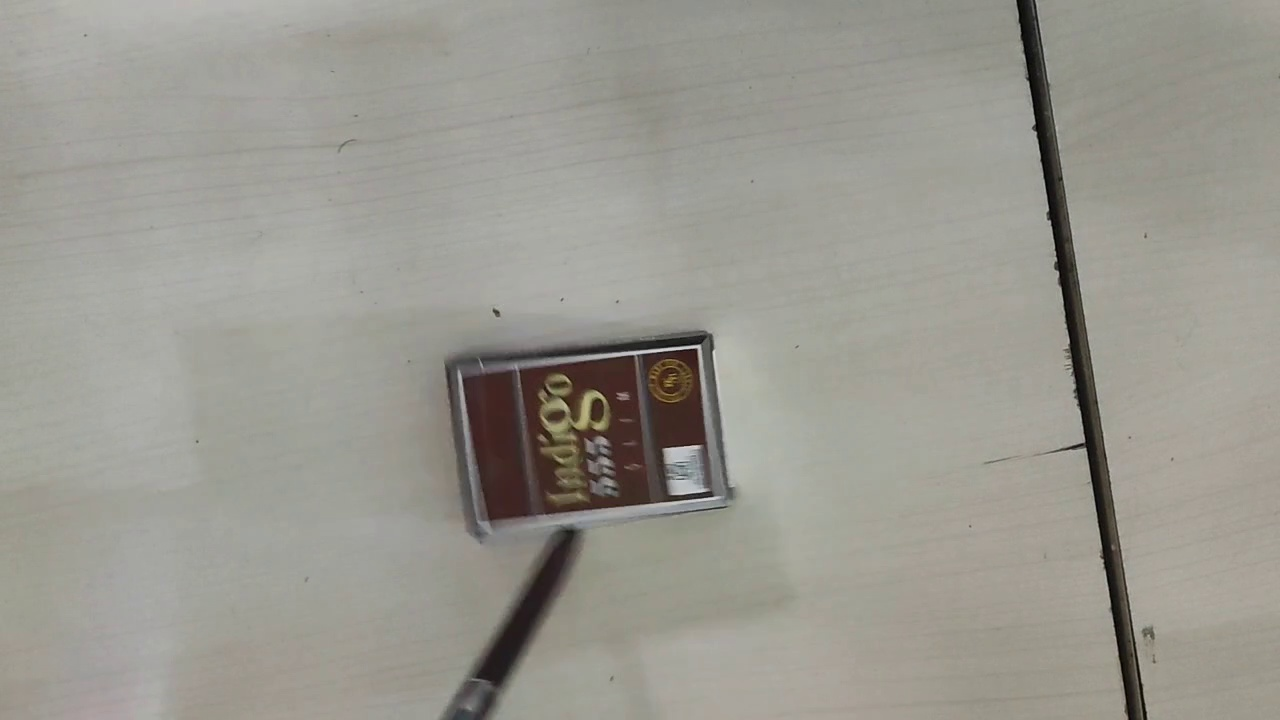BEX: (459, 341, 718, 518)
